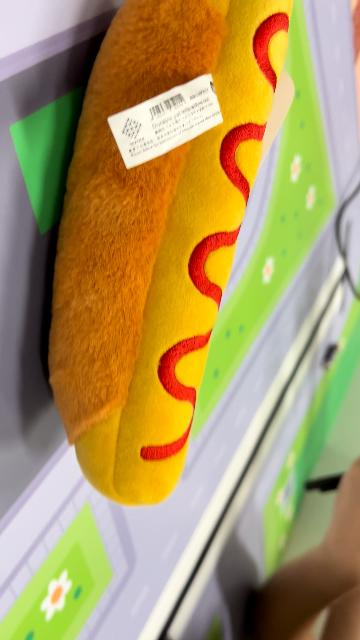hotdog: (46, 1, 296, 508)
